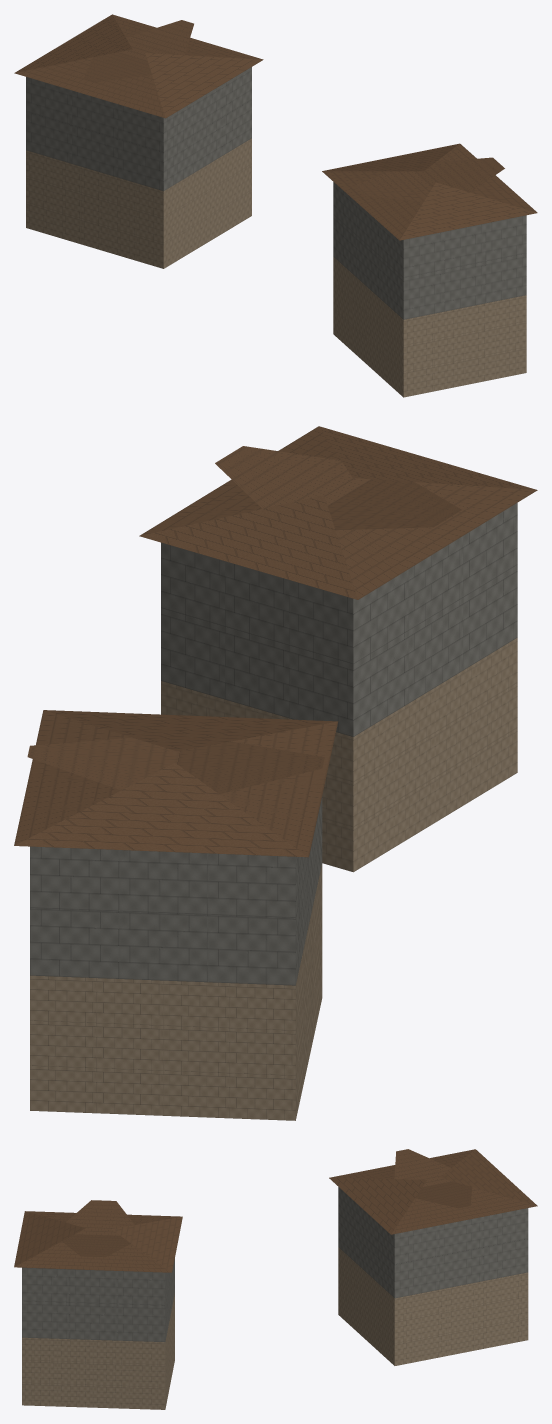
File: bld_c36_47_203.gltf
3 renders of one model, top to bottom at view 1: azimuth 30°, elevation 25°; view 2: azimuth 150°, elevation 25°; view 3: azimuth 270°, elevation 25°, orthographic. The views are drawn at different scales.
Parts seen in each view (by area): view 1: bld_c36_47_203; view 2: bld_c36_47_203; view 3: bld_c36_47_203.
Part boxes in pixels (x1=…): bld_c36_47_203: x1=14, y1=14, x2=537, y2=397; bld_c36_47_203: x1=14, y1=426, x2=537, y2=1120; bld_c36_47_203: x1=14, y1=1149, x2=537, y2=1409.
Size of the model in its own units: 18.67 by 12.2 by 35.73.
3 materials, 3 textured.
